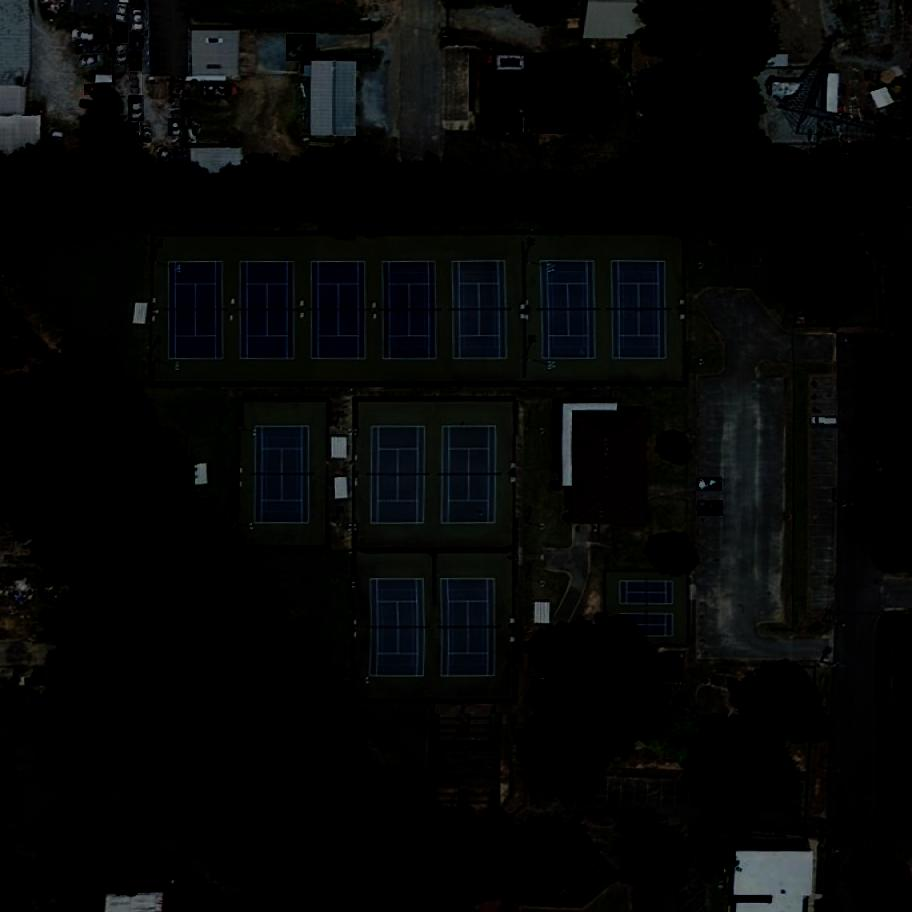small-vehicle: (286, 33, 317, 63), (128, 95, 144, 122), (697, 501, 725, 516), (79, 53, 105, 68), (112, 43, 129, 65), (73, 30, 96, 46), (154, 146, 174, 164), (131, 9, 146, 33), (696, 479, 723, 492), (115, 23, 129, 45), (85, 84, 110, 96), (130, 72, 143, 95), (129, 51, 143, 72), (130, 32, 145, 51), (169, 119, 183, 138), (810, 418, 838, 426), (117, 5, 127, 21), (143, 125, 153, 140), (130, 122, 139, 136)
